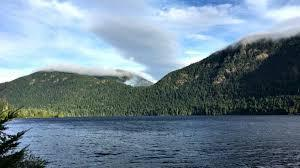yanwu: (31, 1, 187, 72)
